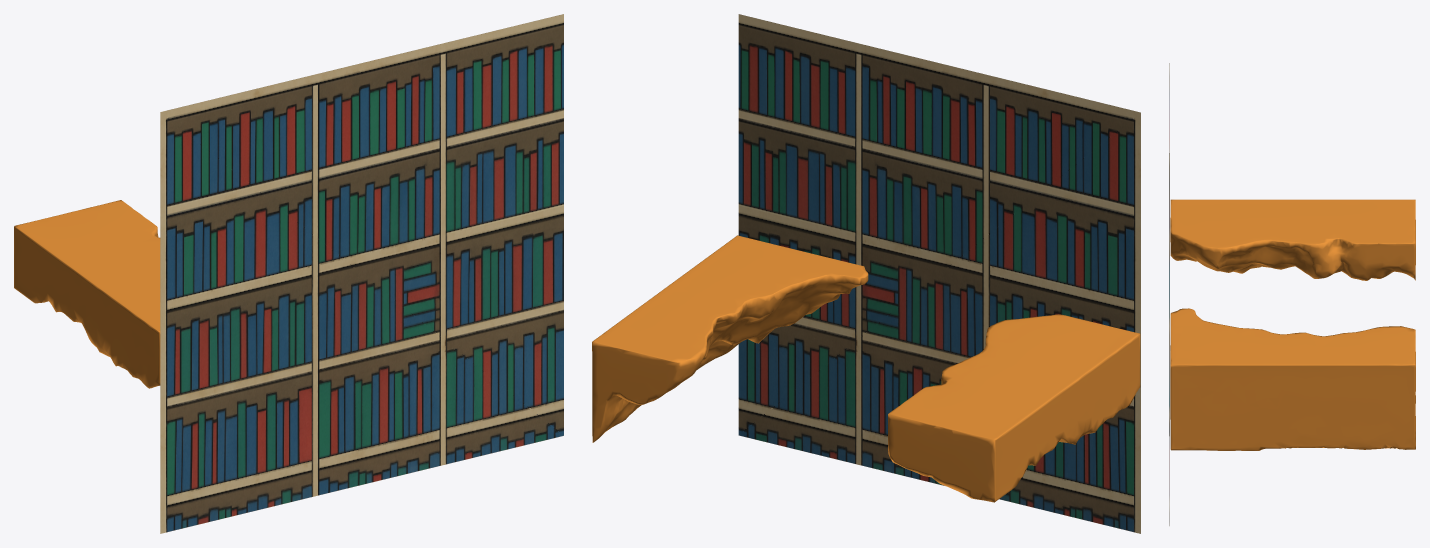
Rendered from cliff.fbx.
3 views of the same model, side by side, from view 1: azimuth 30°, elevation 25°; view 2: azimuth 150°, elevation 25°; view 3: azimuth 270°, elevation 25° (orthographic). The views are drawn at different scales.
Visible parts, largest first — view 1: Plane, Mesh1; view 2: Plane, Mesh1; view 3: Mesh1, Plane.
Part boxes in pixels (left/top/right/bottom): Plane: left=160, top=14, right=563, bottom=533; Mesh1: left=14, top=200, right=160, bottom=388; Plane: left=738, top=14, right=1140, bottom=533; Mesh1: left=592, top=235, right=1140, bottom=502; Mesh1: left=1170, top=199, right=1415, bottom=450; Plane: left=1169, top=63, right=1169, bottom=525.
Size of the model in its own units: 200 by 200 by 126.
